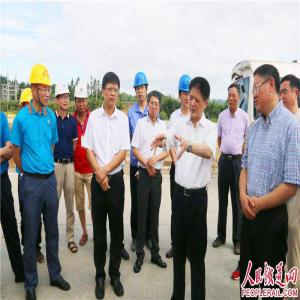blue: (133, 72, 150, 103), (179, 74, 193, 111)
none: (252, 66, 281, 118), (189, 76, 211, 121), (103, 71, 122, 111), (281, 74, 300, 110), (147, 90, 163, 120), (228, 85, 242, 110)
white: (55, 82, 71, 113), (74, 85, 89, 113)
yellow: (30, 64, 53, 109), (20, 88, 34, 114)
